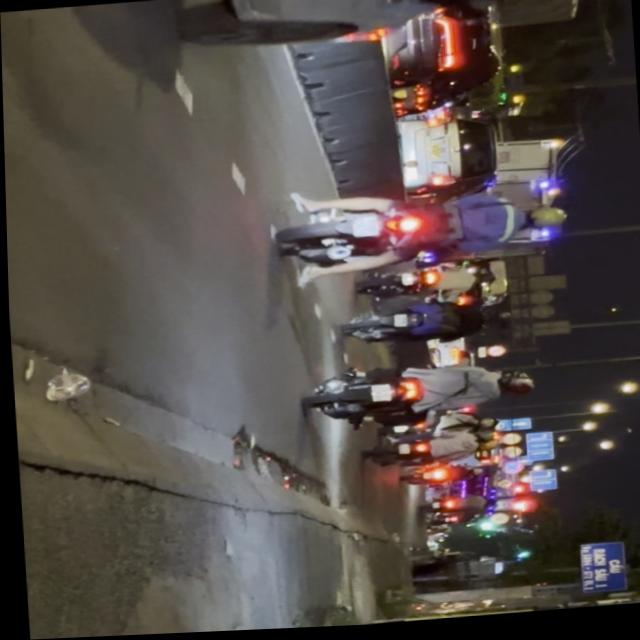helmet: (519, 206, 566, 232)
licenseplate: (0, 0, 633, 74), (272, 177, 571, 283)
nohelmet: (348, 213, 377, 239)
